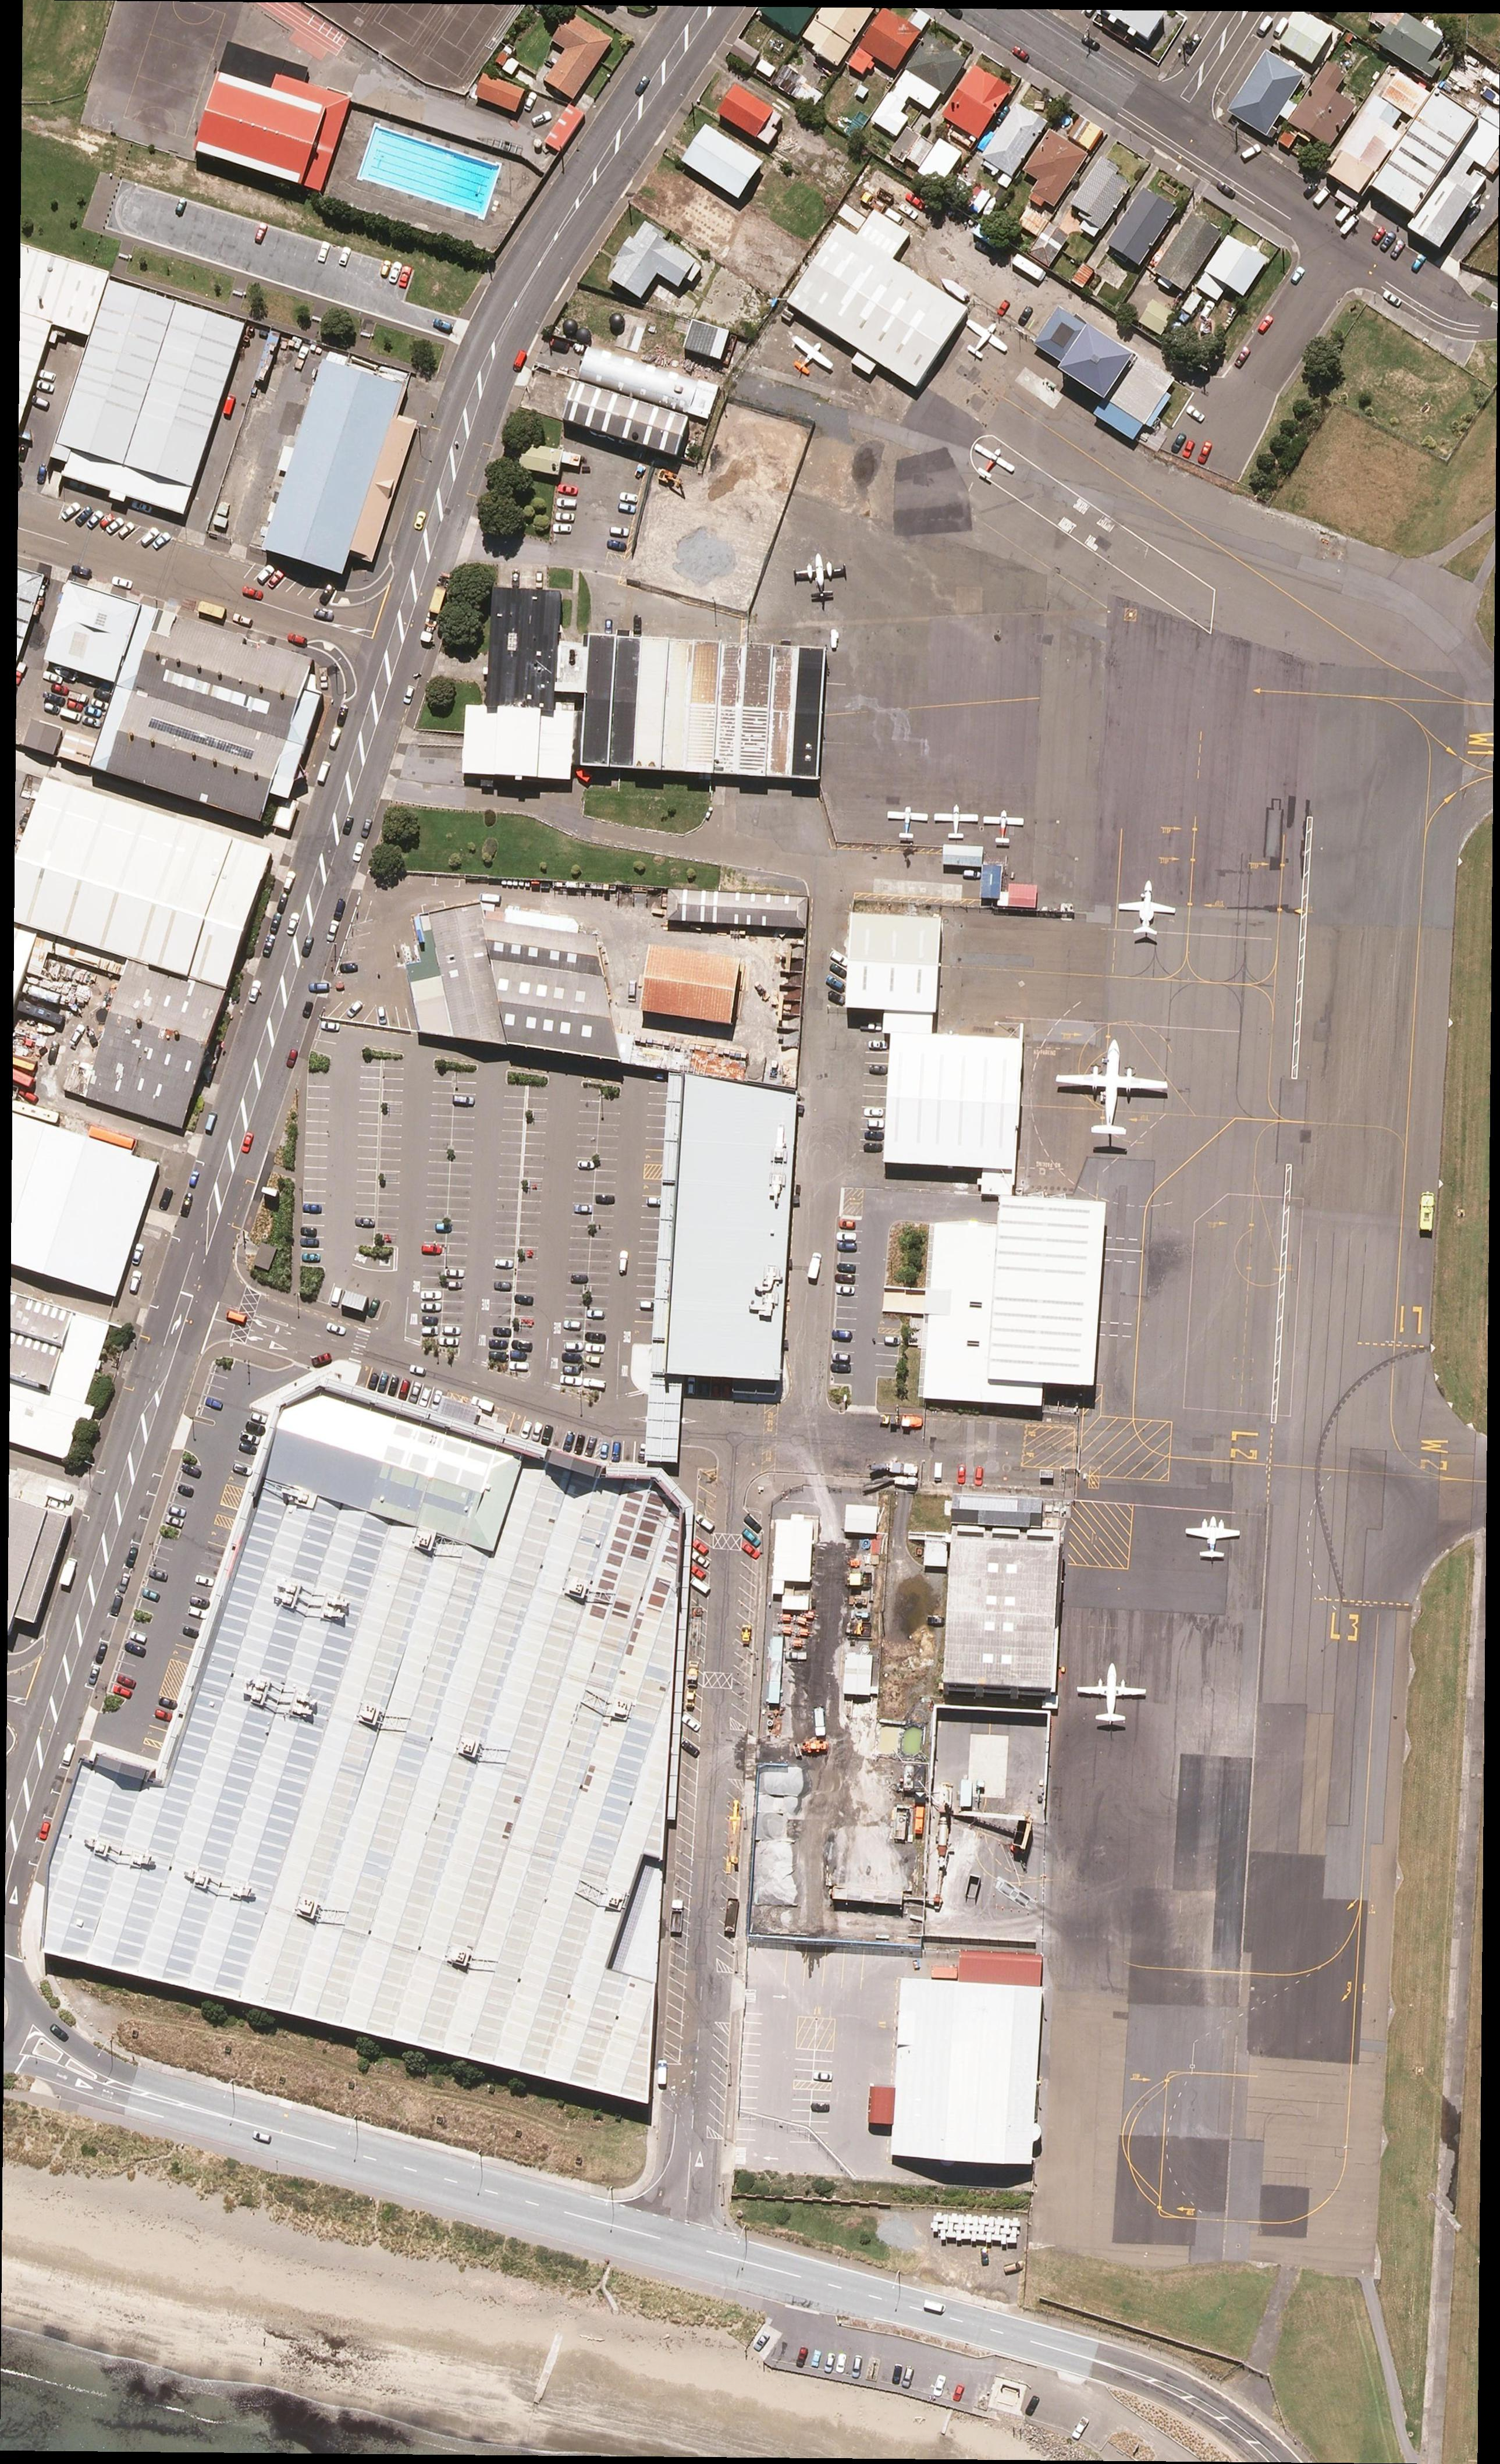plane: (1055, 1035, 1169, 1135), (1077, 1661, 1148, 1723), (951, 308, 1018, 371), (778, 326, 840, 385), (1118, 878, 1176, 935), (963, 436, 1019, 489), (792, 553, 847, 598), (1185, 1517, 1241, 1559), (933, 804, 981, 840), (982, 810, 1025, 843), (887, 804, 930, 838)
